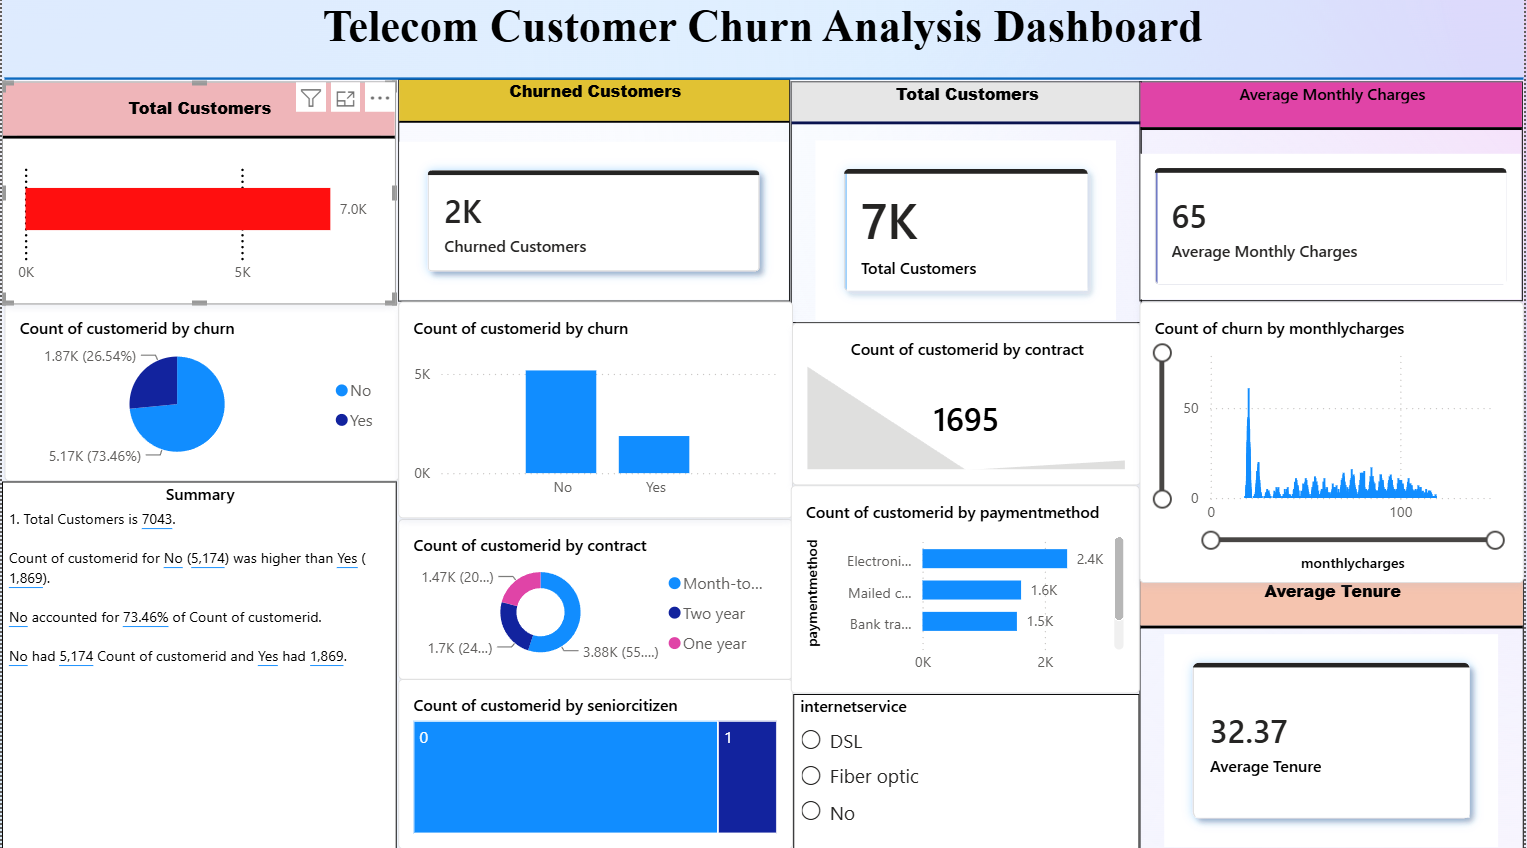

The page's visual inventory and layout, read from the dashboard file:
{"tool":"powerbi","page":{"name":"Page 6","canvas":[1280,720],"ordinal":6},"visuals":[{"type":"barChart","fields":{"Y":["public telecom_churn.Total Customers"]},"box":[0,71.7,331.7,186.7],"z":0},{"type":"cardVisual","title":"Total Customers","fields":{"Data":["public telecom_churn.Total Customers"]},"box":[663.3,73.3,295.6,203.3],"z":1000},{"type":"cardVisual","title":"Average Tenure","fields":{"Data":["public telecom_churn.Average Tenure"]},"box":[956.7,491.7,323.3,228.3],"z":2000},{"type":"cardVisual","title":"Churned Customers","fields":{"Data":["public telecom_churn.Churned Customers"]},"box":[333.6,71.2,329.9,187.4],"z":3000},{"type":"cardVisual","title":"Average Monthly Charges","fields":{"Data":["public telecom_churn.Average Monthly Charges"]},"box":[956.8,73.6,322.8,185],"z":4000},{"type":"pieChart","fields":{"Category":["public telecom_churn.churn"],"Y":["CountNonNull(public telecom_churn.customerid)"]},"box":[1.9,258.7,331.8,150.9],"z":5000},{"type":"donutChart","fields":{"Category":["public telecom_churn.contract"],"Y":["CountNonNull(public telecom_churn.customerid)"]},"box":[333.3,441.7,331.7,135],"z":6000},{"type":"clusteredColumnChart","fields":{"Y":["CountNonNull(public telecom_churn.customerid)"],"Category":["public telecom_churn.churn"]},"box":[333.6,258.7,331.8,182.8],"z":7000},{"type":"treemap","fields":{"Group":["public telecom_churn.seniorcitizen"],"Values":["CountNonNull(public telecom_churn.customerid)"]},"box":[333.3,576.7,331.7,143.3],"z":8000},{"type":"kpi","fields":{"TrendLine":["public telecom_churn.contract"],"Indicator":["CountNonNull(public telecom_churn.customerid)"]},"box":[665,276.7,293.3,136.7],"z":9000},{"type":"barChart","fields":{"Category":["public telecom_churn.paymentmethod"],"Y":["CountNonNull(public telecom_churn.customerid)"]},"box":[663.3,413.3,293.3,175.6],"z":10000},{"type":"columnChart","fields":{"Category":["public telecom_churn.monthlycharges"],"Y":["CountNonNull(public telecom_churn.churn)"]},"box":[956.7,258.3,323.3,236.7],"z":11000},{"type":"textbox","title":"Summary","box":[0,410,331.7,310],"z":12000},{"type":"listSlicer","fields":{"Values":["public telecom_churn.internetservice"]},"box":[665.6,588.9,291.1,131.1],"z":13000},{"type":"textbox","box":[0,0,1280,71.1],"z":14000},{"type":"shape","box":[2.2,18.9,1277.8,104.4],"z":15000}]}

Visuals, with their boxes on the page's 1280x720 design canvas (x1, y1, x2, y2). These are canvas units, not pixel positions in the 1527x848 screenshot, which may show the page scaled, cropped or inside an application window:
barChart - public telecom_churn.Total Customers: select_region(0, 72, 332, 258)
"Total Customers" cardVisual: select_region(663, 73, 959, 277)
"Average Tenure" cardVisual: select_region(957, 492, 1280, 720)
"Churned Customers" cardVisual: select_region(334, 71, 664, 259)
"Average Monthly Charges" cardVisual: select_region(957, 74, 1280, 259)
pieChart - public telecom_churn.churn x CountNonNull(public telecom_churn.customerid): select_region(2, 259, 334, 410)
donutChart - public telecom_churn.contract x CountNonNull(public telecom_churn.customerid): select_region(333, 442, 665, 577)
clusteredColumnChart - CountNonNull(public telecom_churn.customerid) x public telecom_churn.churn: select_region(334, 259, 665, 442)
treemap - public telecom_churn.seniorcitizen x CountNonNull(public telecom_churn.customerid): select_region(333, 577, 665, 720)
kpi - public telecom_churn.contract x CountNonNull(public telecom_churn.customerid): select_region(665, 277, 958, 413)
barChart - public telecom_churn.paymentmethod x CountNonNull(public telecom_churn.customerid): select_region(663, 413, 957, 589)
columnChart - public telecom_churn.monthlycharges x CountNonNull(public telecom_churn.churn): select_region(957, 258, 1280, 495)
"Summary" textbox: select_region(0, 410, 332, 720)
listSlicer - public telecom_churn.internetservice: select_region(666, 589, 957, 720)
textbox: select_region(0, 0, 1280, 71)
shape: select_region(2, 19, 1280, 123)
